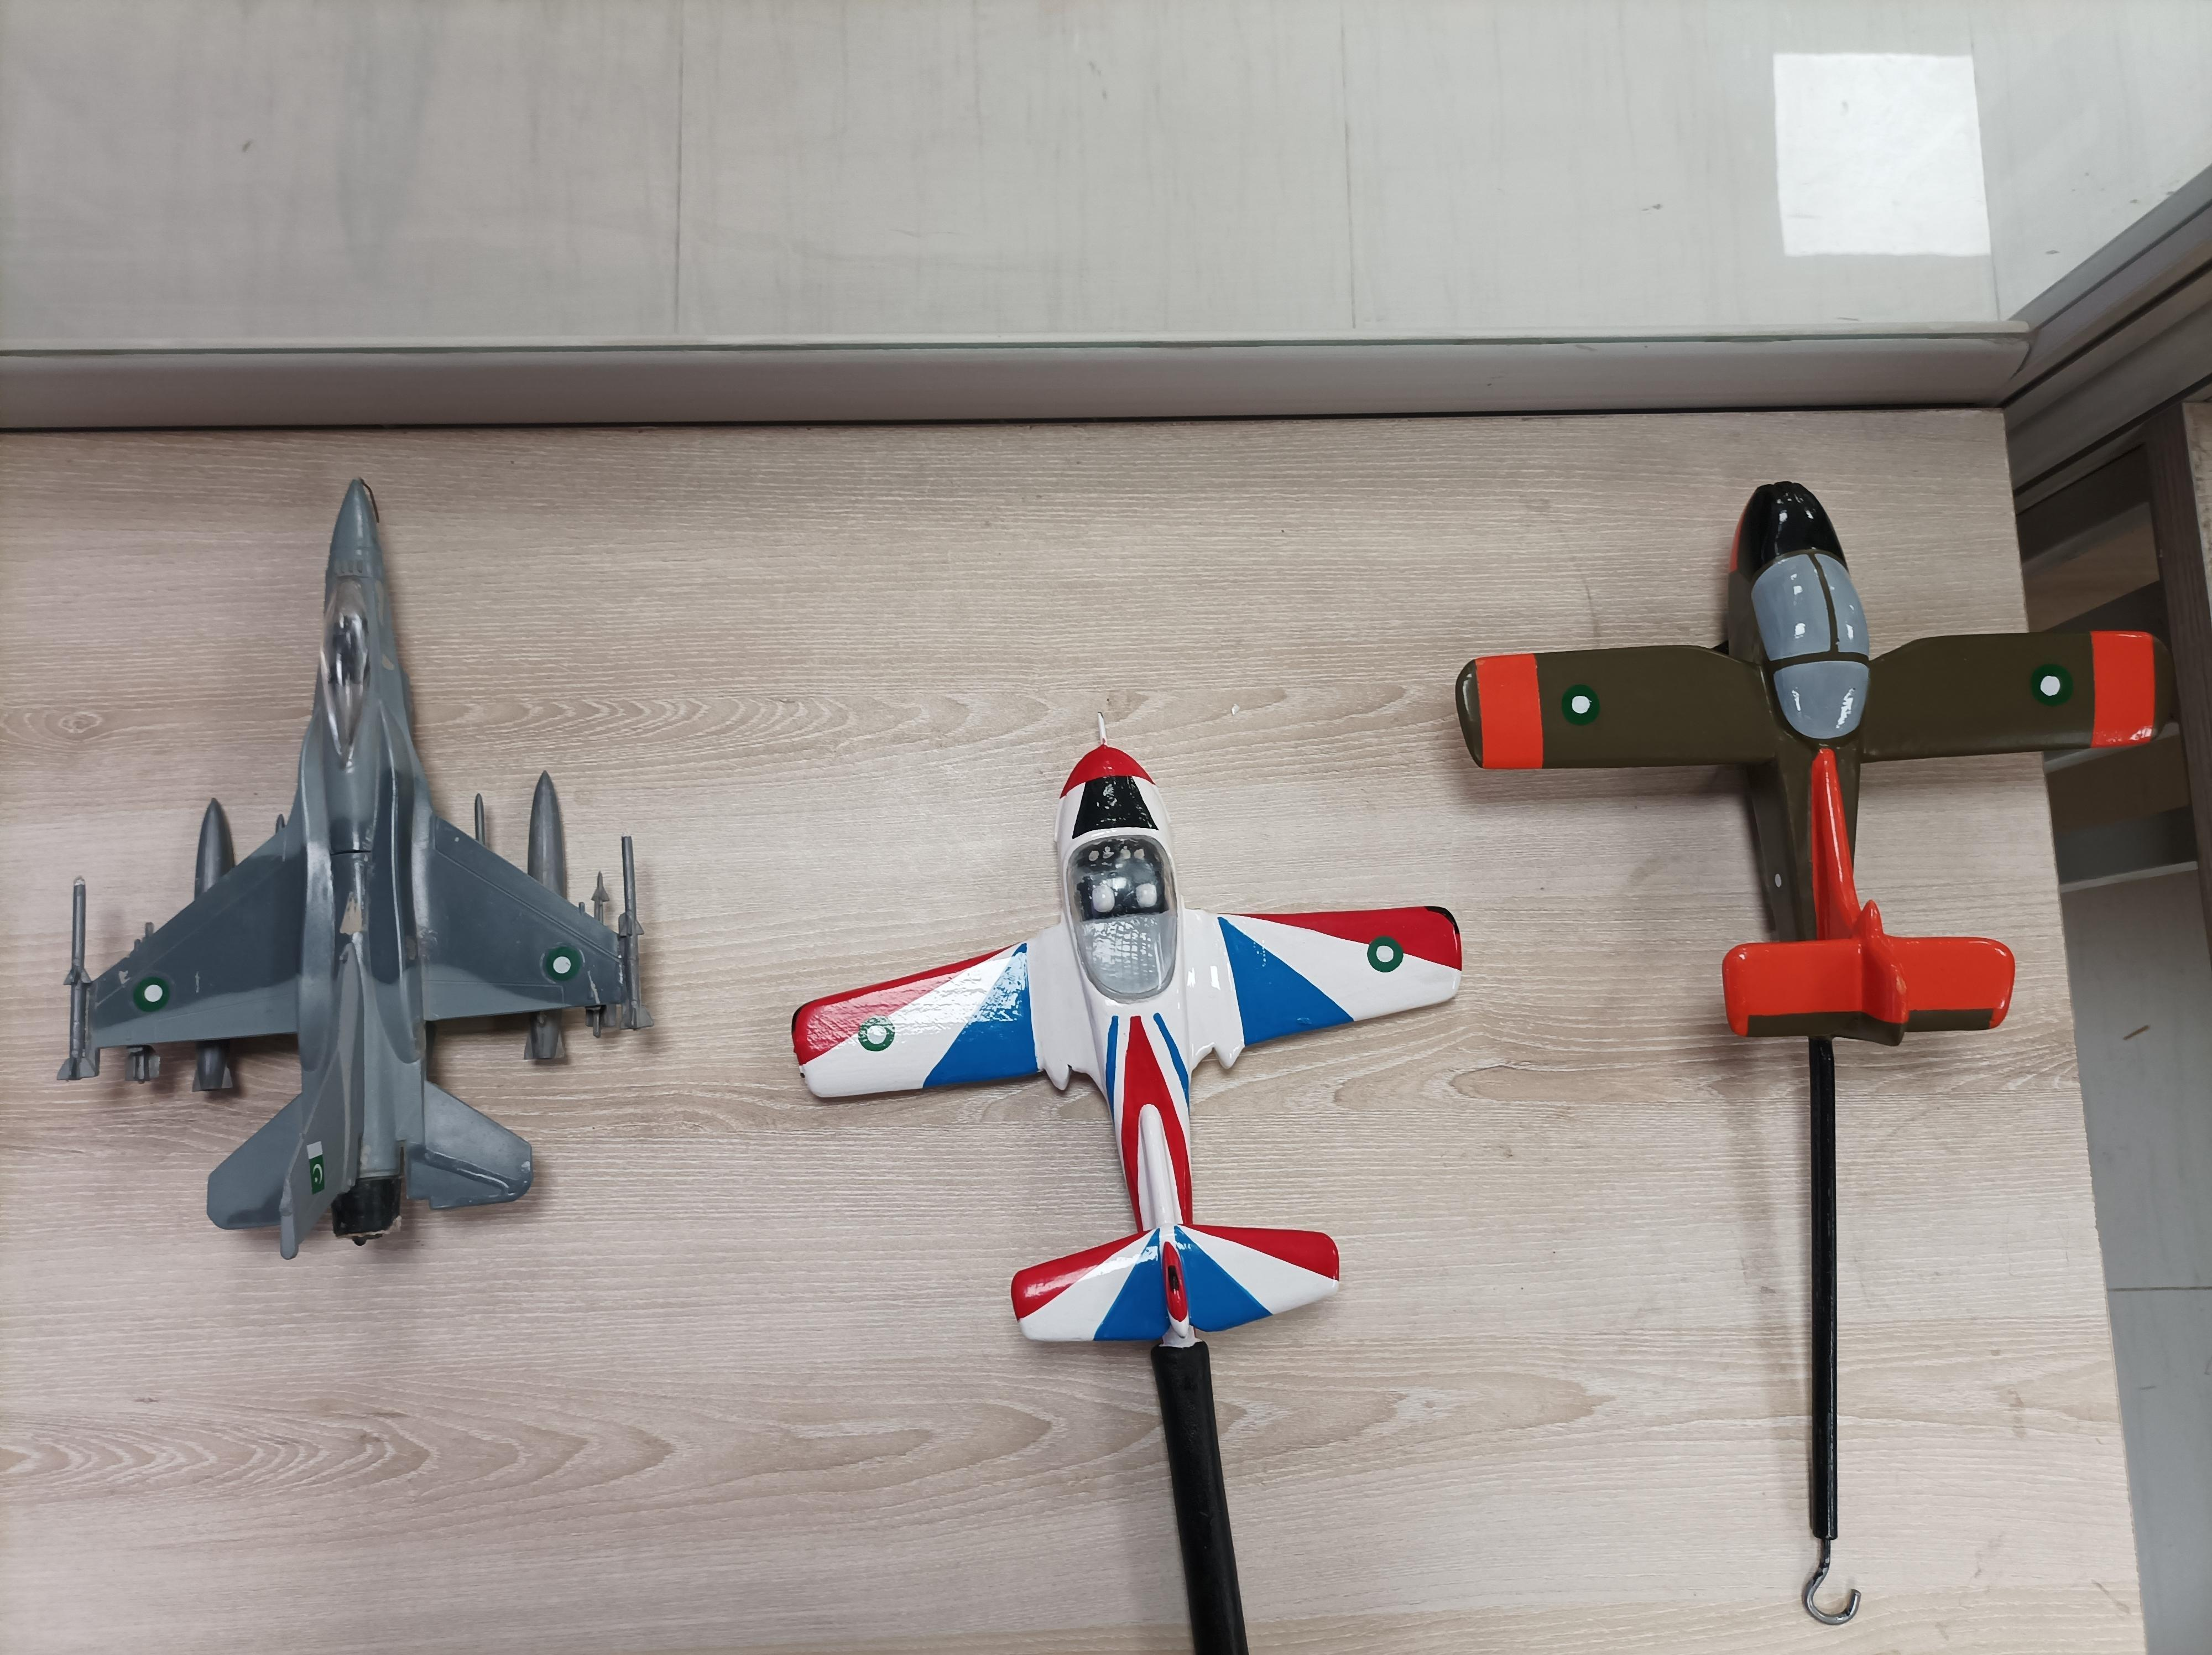Airplane: (0, 464, 707, 1274), (758, 730, 1468, 1375), (1446, 468, 2195, 1076)
